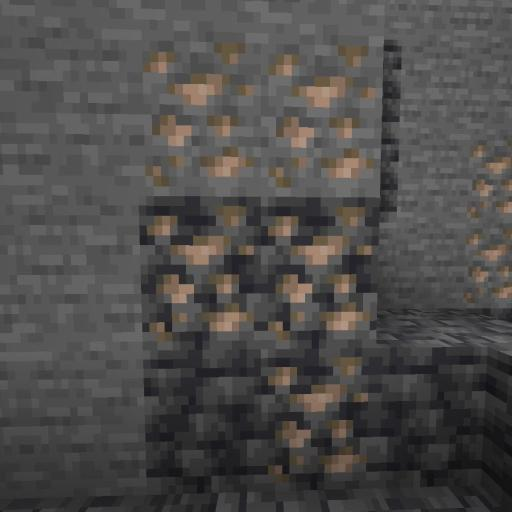iron ore: (144, 39, 372, 486), (458, 138, 512, 316)
